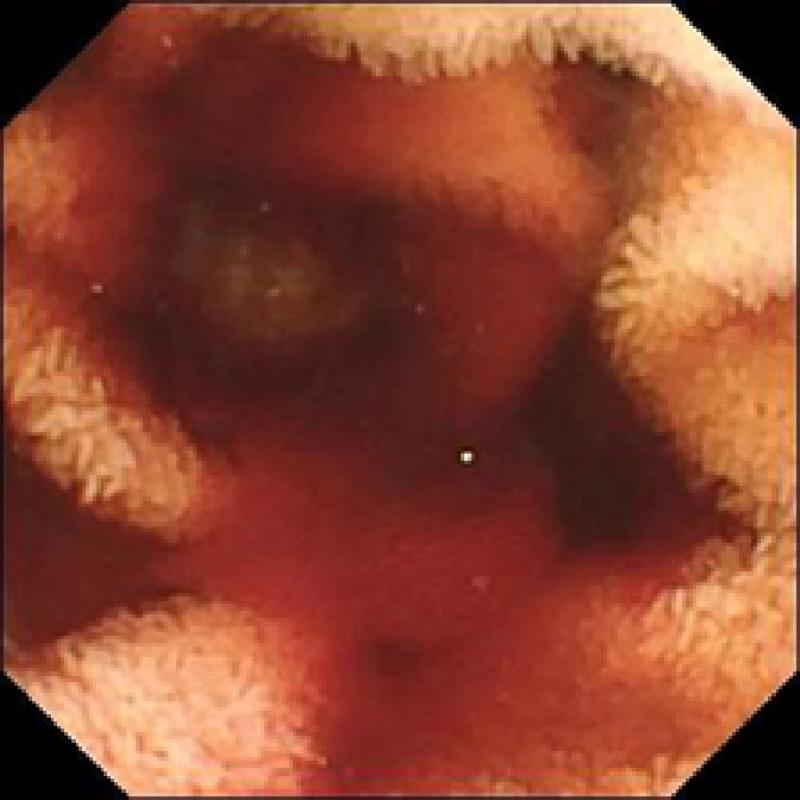bleeding: (28, 28, 653, 800)
